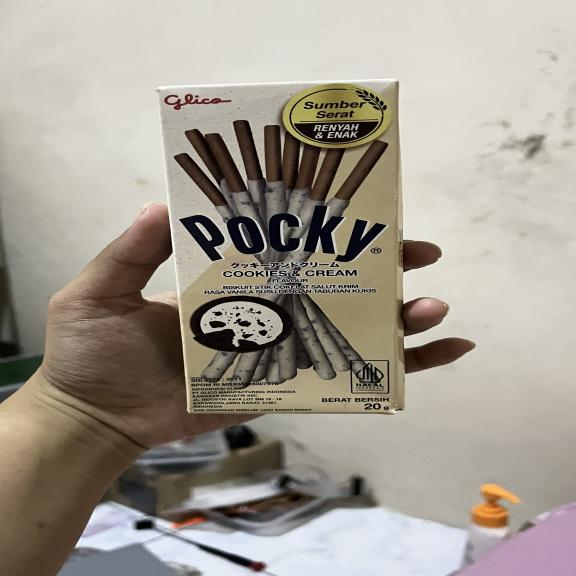Kertas: (167, 93, 398, 410)
